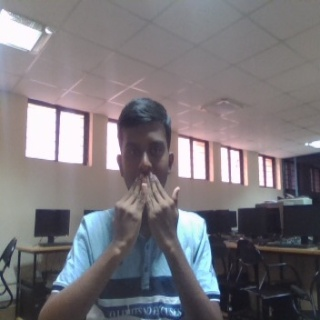Thank You: (105, 171, 190, 259)
